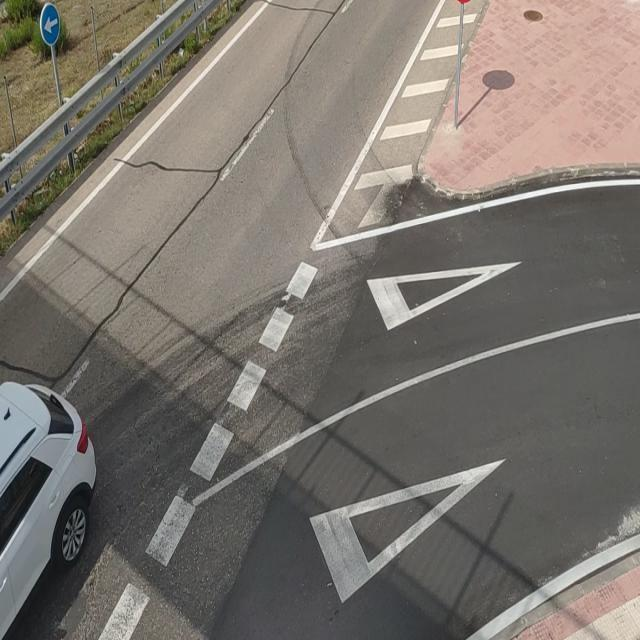Car: (0, 374, 104, 640)
